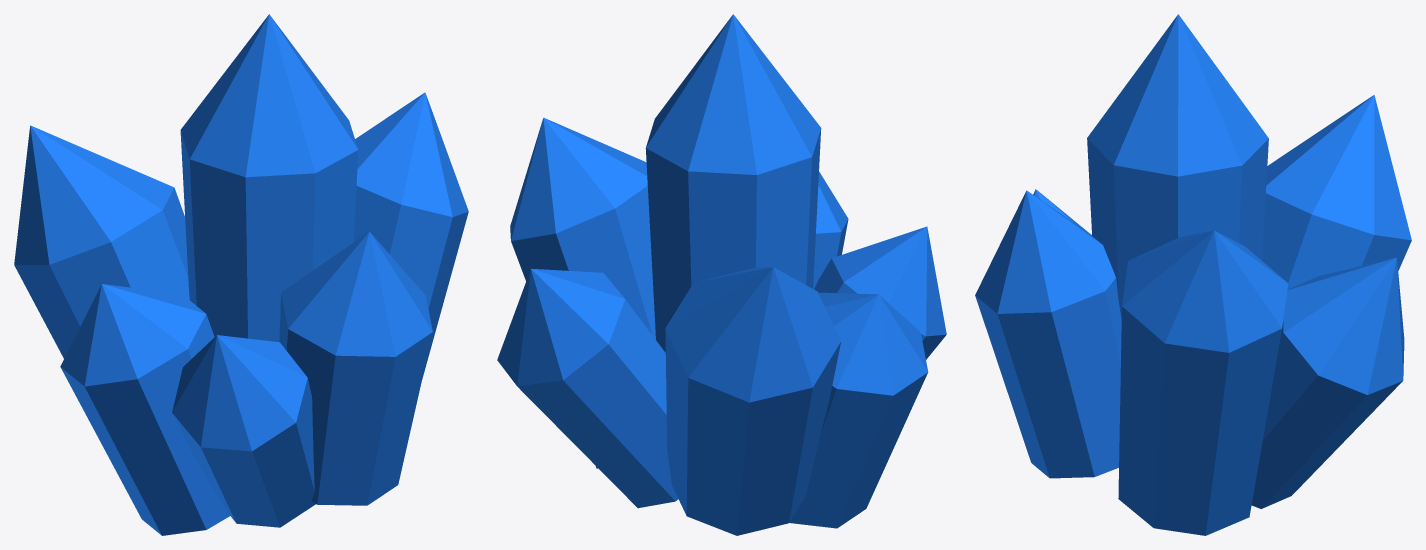
File: CrystalsV2.FBX
The picture shows the model from 3 angles, left to right: view 1: azimuth 30°, elevation 25°; view 2: azimuth 150°, elevation 25°; view 3: azimuth 270°, elevation 25°; orthographic projection.
Visible parts, largest first — view 1: OBJ_OutsideCrystalV2; view 2: OBJ_OutsideCrystalV2; view 3: OBJ_OutsideCrystalV2.
Boxes of the visible parts, left/top/right/bottom form: OBJ_OutsideCrystalV2: left=14, top=14, right=468, bottom=535; OBJ_OutsideCrystalV2: left=497, top=14, right=946, bottom=535; OBJ_OutsideCrystalV2: left=975, top=14, right=1411, bottom=535.
Size of the model in its own units: 0.8669 by 1.03 by 0.848.
